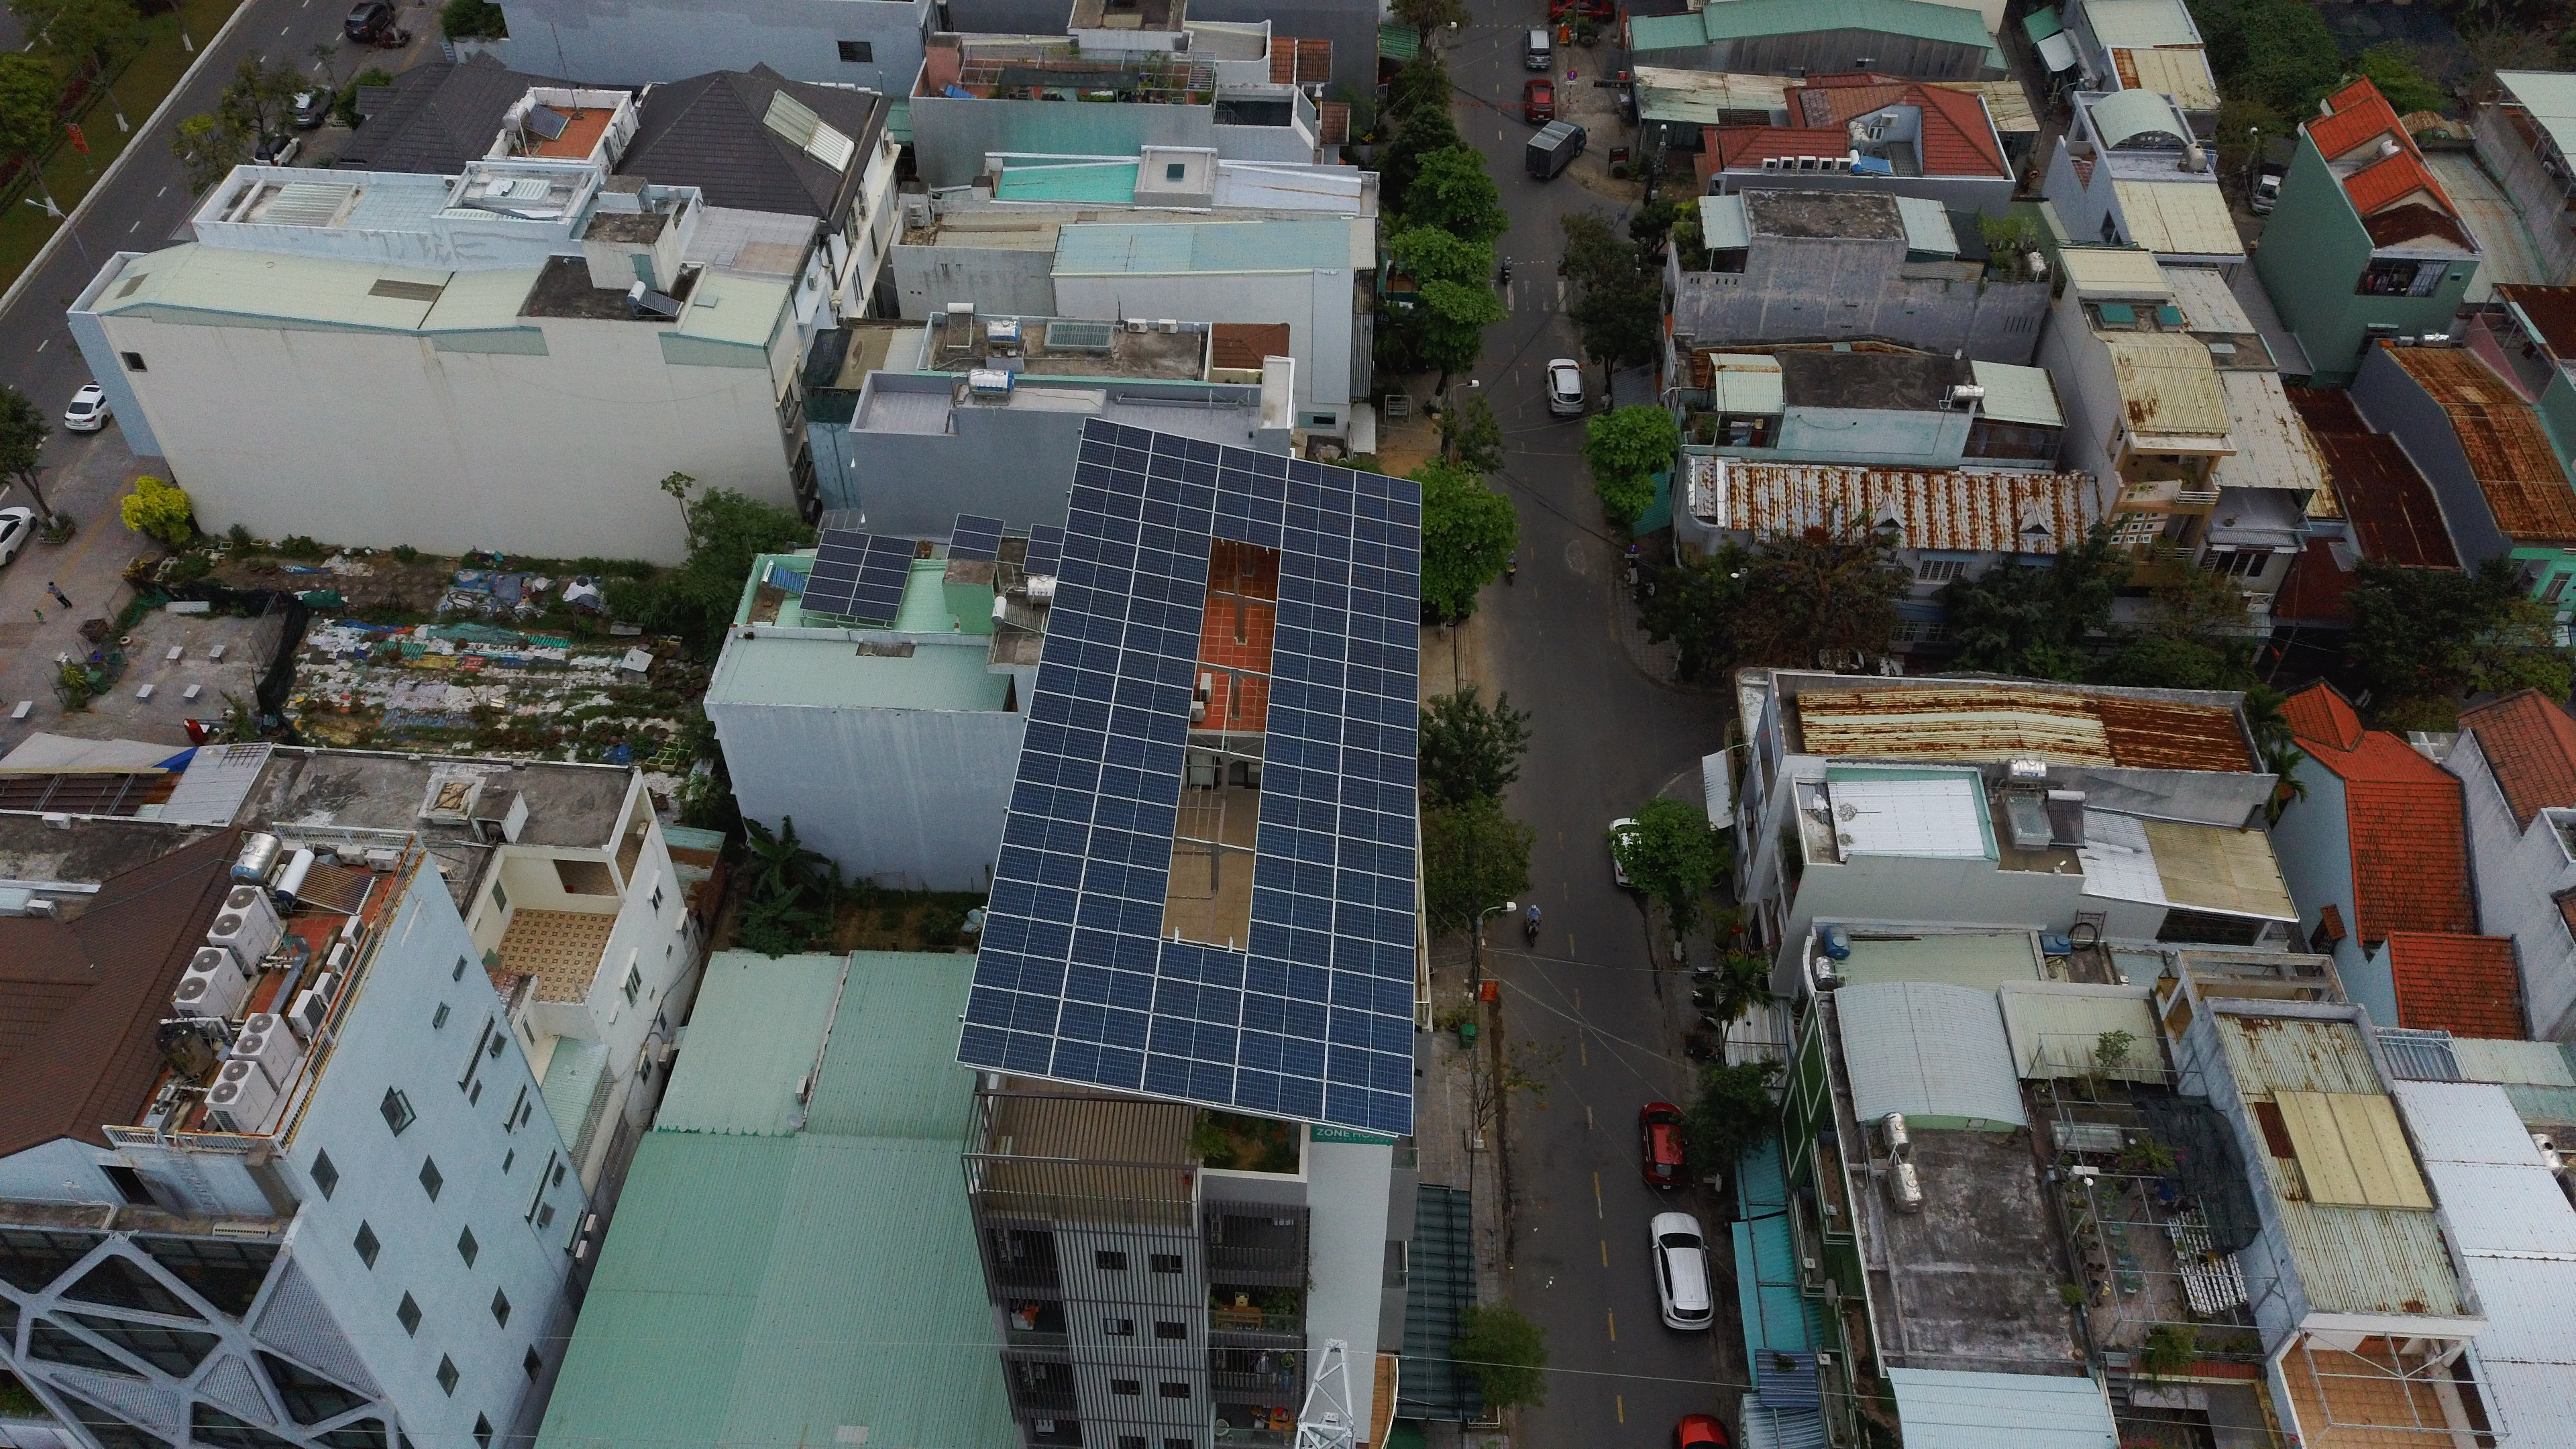solar: (1143, 1010, 1242, 1069), (955, 1021, 1056, 1076), (1047, 1037, 1146, 1092), (1141, 1051, 1237, 1108), (1235, 1026, 1329, 1083), (1231, 1067, 1325, 1123), (970, 947, 1069, 1000), (964, 984, 1063, 1037), (978, 911, 1077, 962), (1067, 924, 1162, 977), (1054, 998, 1150, 1051), (1154, 938, 1247, 991), (1060, 961, 1155, 1012), (1152, 977, 1246, 1028), (1072, 890, 1164, 941), (1330, 932, 1419, 985), (1325, 1042, 1414, 1095), (1323, 1005, 1414, 1056), (993, 842, 1085, 892), (1077, 856, 1169, 906), (1327, 970, 1415, 1021), (1322, 1083, 1410, 1134), (1242, 954, 1332, 1003), (1238, 991, 1329, 1040), (1007, 780, 1099, 828), (1000, 810, 1092, 858), (985, 878, 1077, 925), (1246, 918, 1332, 968), (1249, 886, 1334, 936), (1086, 824, 1173, 872), (1090, 793, 1177, 839), (1332, 867, 1415, 915), (1021, 718, 1108, 763), (1014, 750, 1100, 794), (1254, 821, 1338, 867), (1251, 853, 1334, 899), (1332, 901, 1415, 947), (1102, 732, 1185, 777), (1097, 763, 1180, 807), (1263, 731, 1343, 777), (1261, 759, 1341, 805), (1258, 789, 1338, 835), (1336, 835, 1415, 881), (1031, 660, 1116, 702), (1338, 775, 1419, 819), (1336, 807, 1417, 851), (1044, 607, 1127, 649), (1039, 633, 1122, 676), (1028, 690, 1111, 732), (1108, 704, 1191, 747), (1265, 702, 1343, 747), (1341, 745, 1415, 791), (1122, 621, 1201, 663), (1116, 648, 1196, 690), (1111, 674, 1191, 717), (1267, 674, 1346, 717), (1270, 623, 1348, 665), (1269, 648, 1346, 690), (1060, 533, 1139, 573), (1054, 557, 1134, 598), (1049, 580, 1129, 621), (1343, 662, 1417, 704), (1343, 688, 1417, 731), (1276, 571, 1350, 612), (1343, 720, 1417, 761), (1079, 414, 1155, 453), (1074, 437, 1150, 476), (1070, 460, 1146, 499), (1069, 483, 1145, 522), (1065, 508, 1141, 547), (1146, 449, 1223, 488), (1145, 478, 1221, 517), (1139, 499, 1215, 538), (1136, 520, 1212, 559), (1132, 545, 1208, 584), (1125, 596, 1201, 635), (1217, 441, 1293, 479), (1215, 465, 1292, 504), (1212, 487, 1288, 525), (1210, 513, 1286, 552), (1284, 455, 1361, 494), (1352, 472, 1428, 511), (1283, 478, 1355, 518), (1281, 525, 1353, 566), (1279, 547, 1352, 587), (1274, 596, 1346, 637), (1150, 428, 1224, 467), (1131, 570, 1205, 609), (1283, 502, 1355, 541), (1350, 492, 1421, 531), (1346, 563, 1419, 600), (1346, 586, 1419, 623), (1350, 517, 1422, 552), (1346, 614, 1419, 649), (1345, 639, 1417, 674), (1350, 540, 1421, 575), (952, 511, 1005, 538), (948, 529, 1001, 556), (819, 527, 872, 552), (814, 543, 867, 568), (803, 575, 856, 600), (855, 564, 908, 589), (846, 598, 899, 623), (809, 559, 860, 584), (867, 533, 918, 557), (863, 548, 915, 573), (853, 582, 904, 607), (796, 594, 849, 616), (947, 545, 996, 564), (1028, 522, 1065, 545), (1026, 538, 1063, 561), (1023, 556, 1060, 577)
